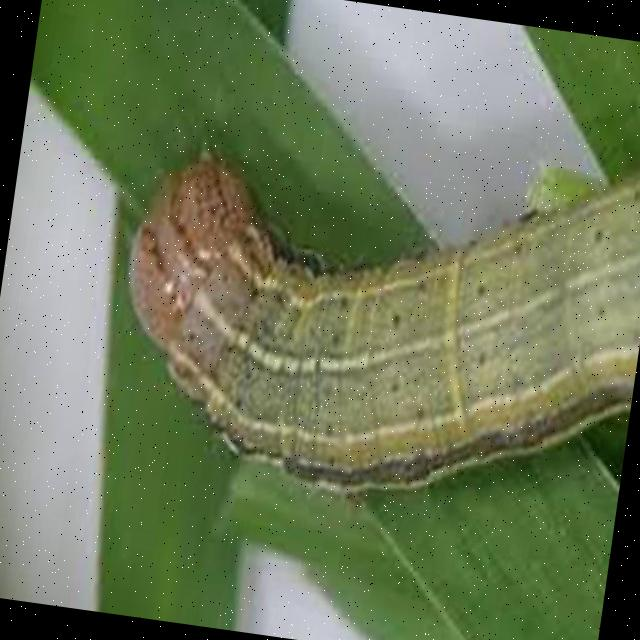worm: (99, 90, 640, 540)
